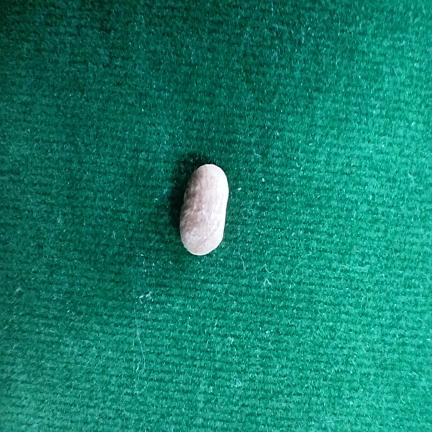shell: (180, 164, 228, 255)
